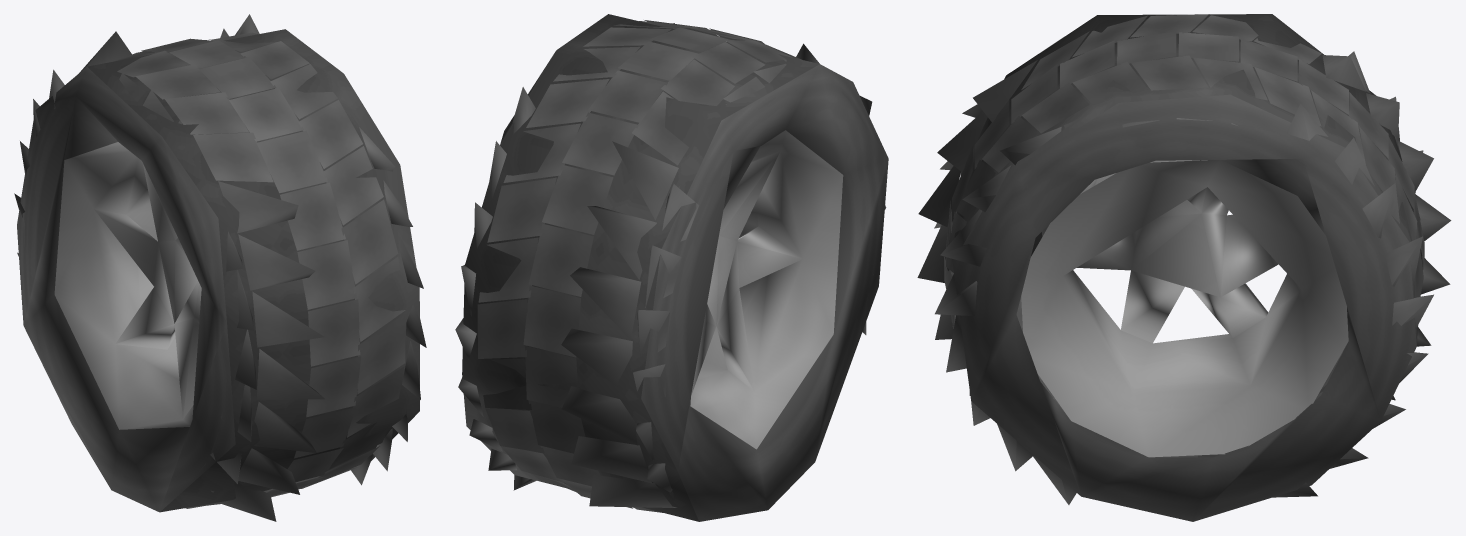
File: LK4_wheel_d1.obj
3 views of the same model, side by side, from view 1: azimuth 30°, elevation 25°; view 2: azimuth 150°, elevation 25°; view 3: azimuth 270°, elevation 25° (orthographic). The views are drawn at different scales.
Parts seen in each view (by area): view 1: LK4_wheel; view 2: LK4_wheel; view 3: LK4_wheel.
Part boxes in pixels (left/top/right/bottom): LK4_wheel: left=14, top=14, right=426, bottom=521; LK4_wheel: left=455, top=14, right=888, bottom=521; LK4_wheel: left=917, top=14, right=1451, bottom=521.
Size of the model in its own units: 0.3843 by 0.7559 by 0.8418.
Materials: 1 (1 with a texture image).
